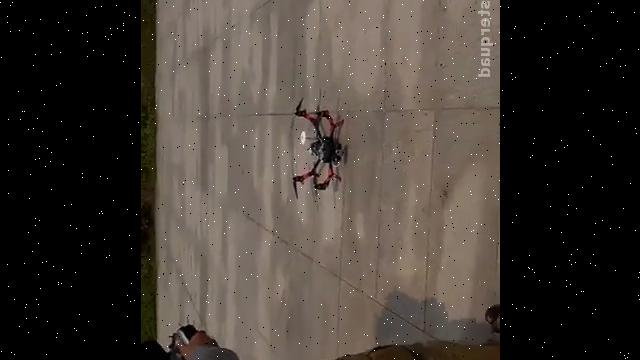drone: (288, 92, 344, 212)
